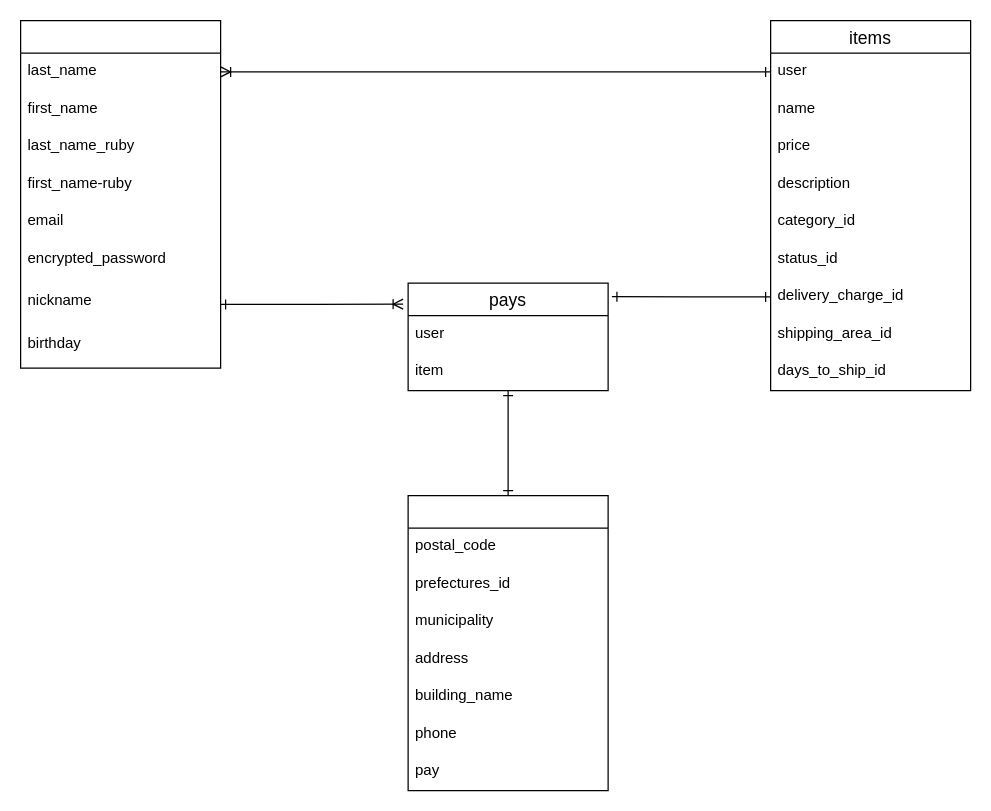
The diagram is 991 pixels wide and 811 high, and some of its shapes have lost their labels. Each missing label, with the box of its shape:
sends: (407, 494, 608, 791)
users: (19, 19, 221, 368)
